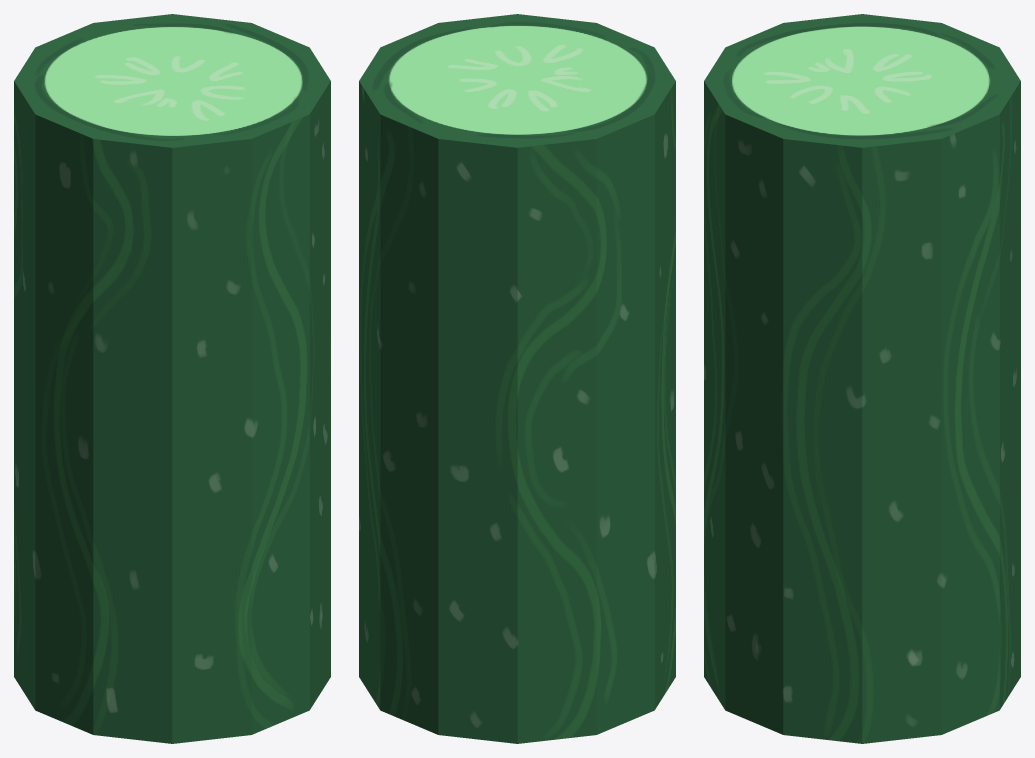
Rendered from ACUMBblock.glb.
3 views of the same model, side by side, from view 1: azimuth 30°, elevation 25°; view 2: azimuth 150°, elevation 25°; view 3: azimuth 270°, elevation 25° (orthographic).
Visible parts, largest first — view 1: Cylinder; view 2: Cylinder; view 3: Cylinder.
Part boxes in pixels (left/top/right/bottom): Cylinder: left=14, top=14, right=330, bottom=743; Cylinder: left=359, top=14, right=675, bottom=743; Cylinder: left=704, top=14, right=1020, bottom=743.
Size of the model in its own units: 3.34 by 6.93 by 3.34.
Materials: 1 (1 with a texture image).
